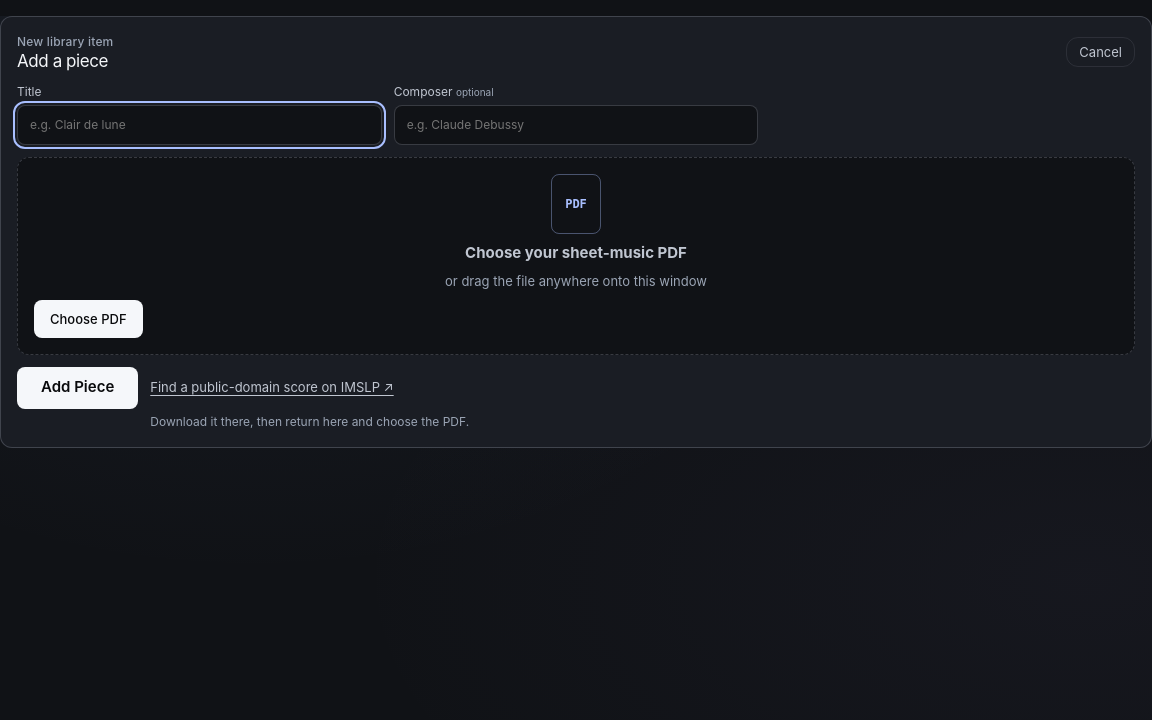
Test case: AddPiece › explains missing title and PDF instead of starting an incomplete import
The width and height of the screenshot is (1152, 720).
Click the button "Add Piece" at x=78, y=388, box [17, 367, 138, 409]
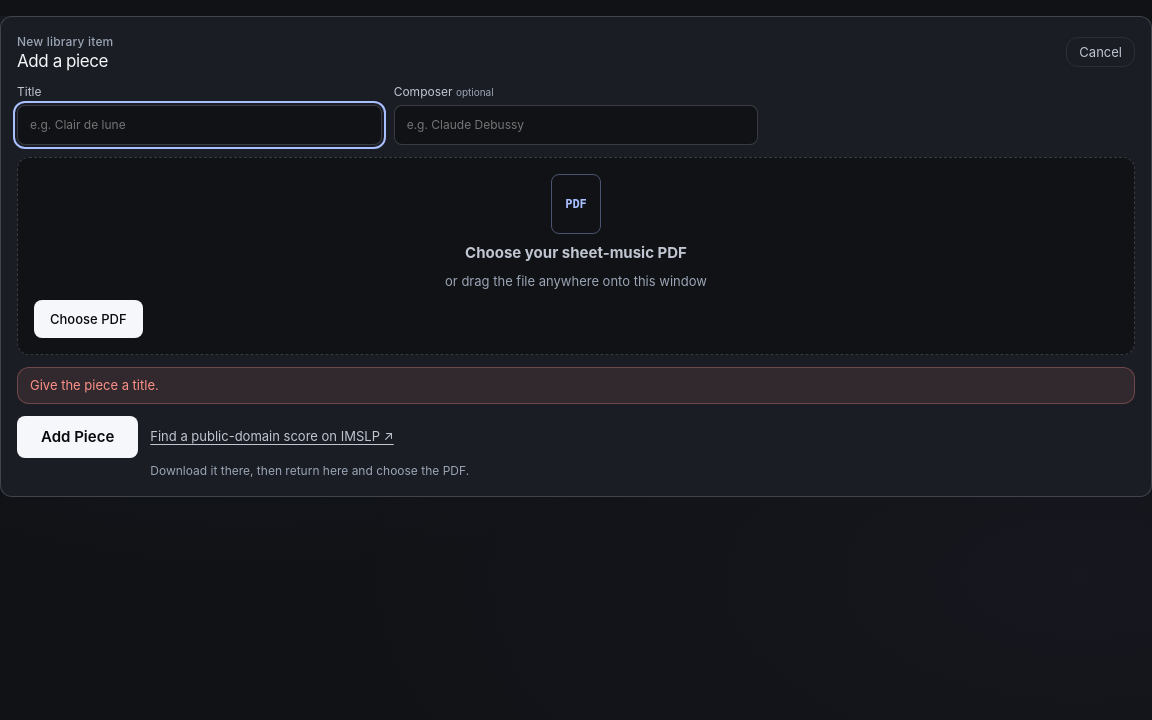
Now the message reads "Give the piece a title.", box [30, 377, 159, 393]
Type "New piece" into the field labelled "Title" at x=199, y=125, box [17, 105, 382, 145]
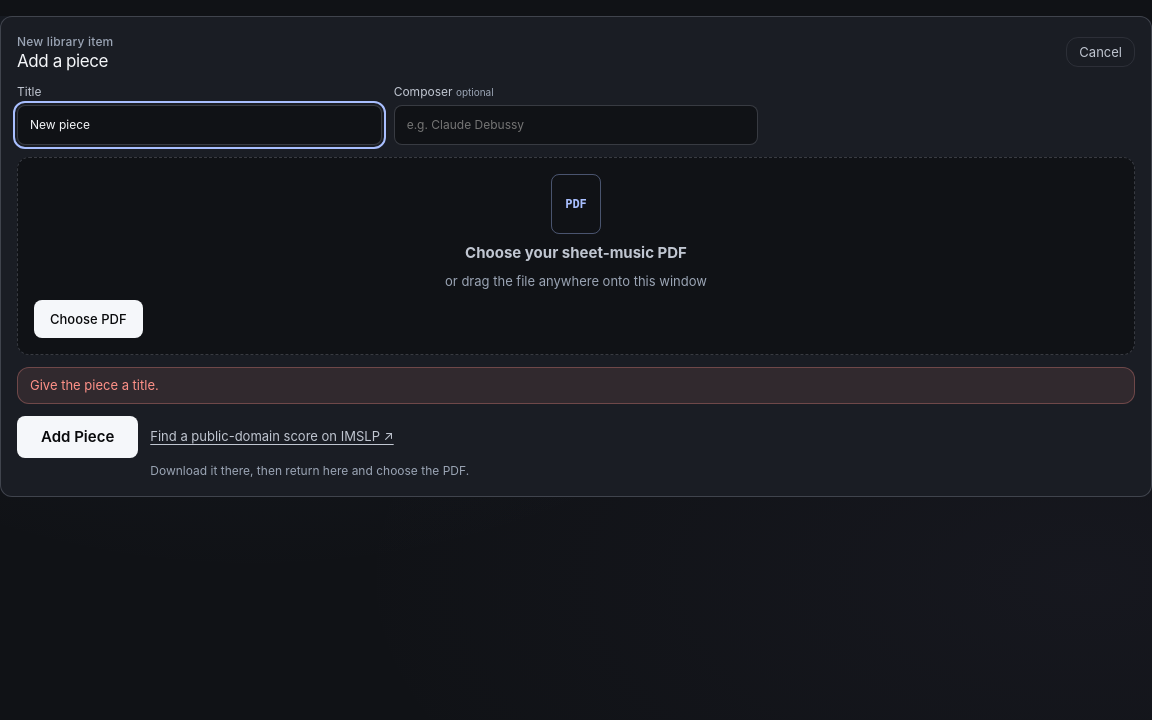
Click the button "Add Piece" at x=78, y=437, box [17, 416, 138, 458]
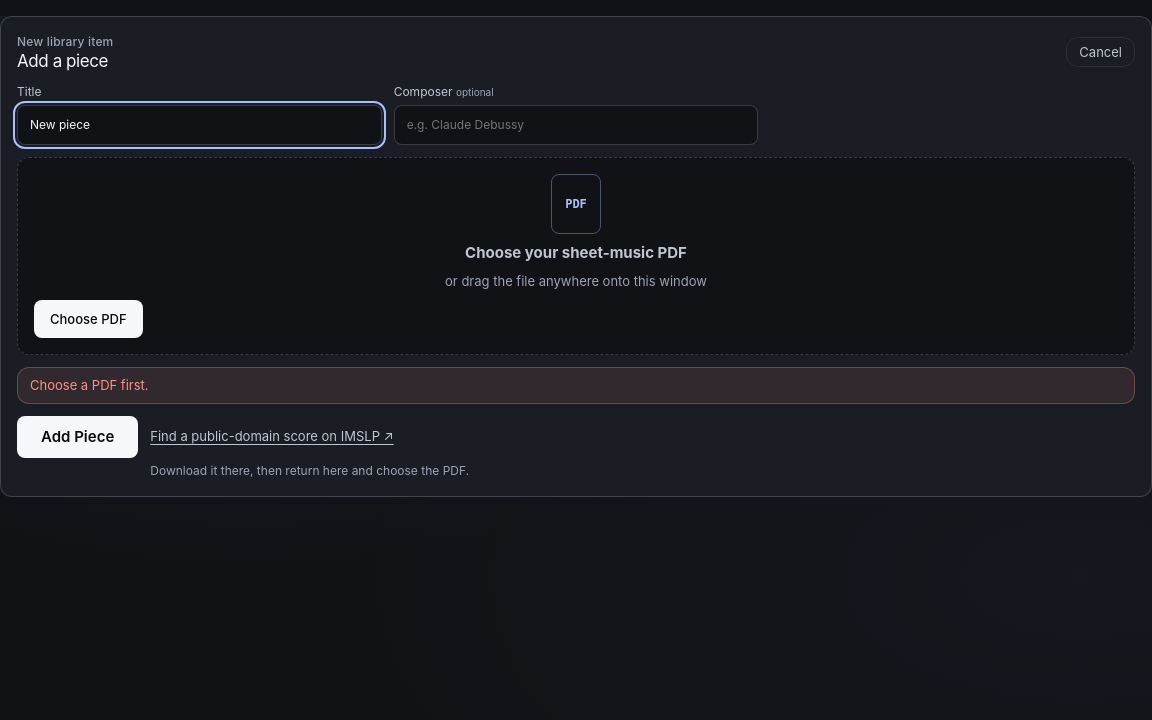
Now the message reads "Choose a PDF first.", box [30, 377, 149, 393]
